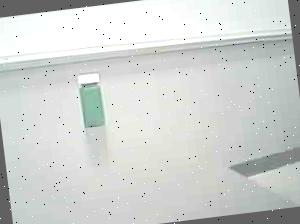Bottle C: (70, 69, 122, 140)
